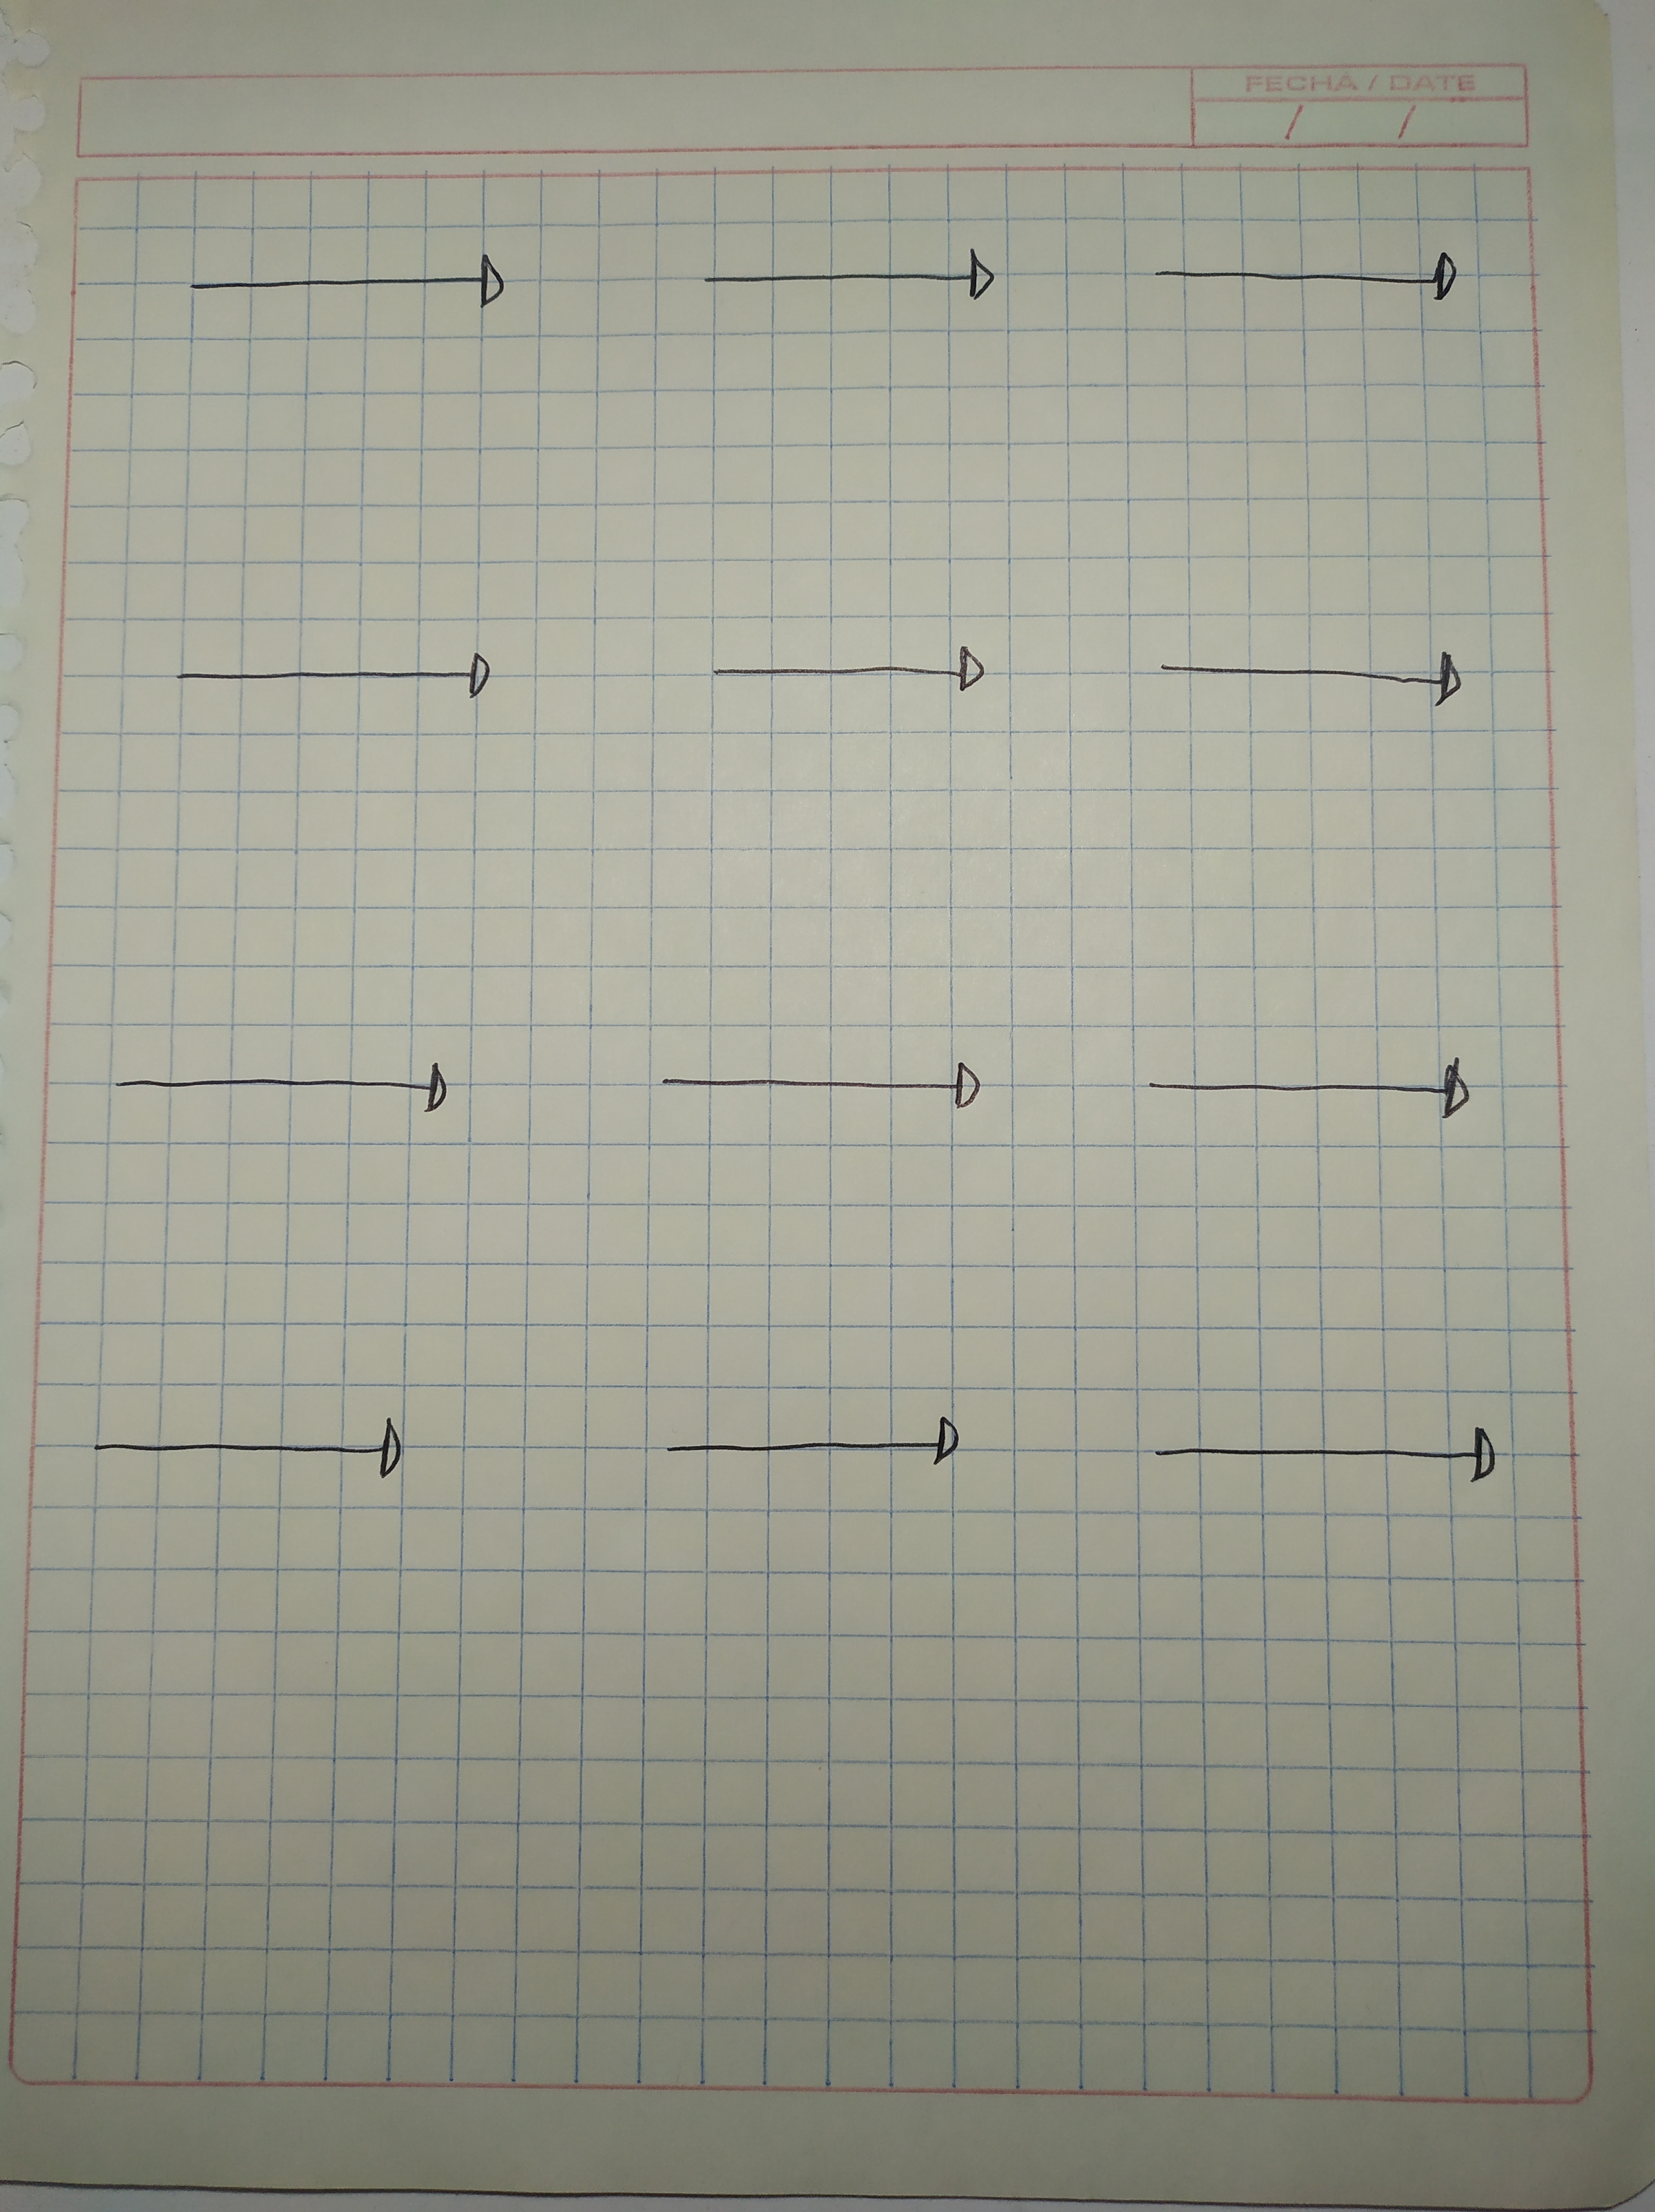arrow_line_right: (664, 221, 1066, 353), (629, 1373, 1005, 1501), (1114, 1397, 1533, 1500), (1128, 1037, 1490, 1150), (92, 1041, 466, 1147), (165, 240, 542, 342), (61, 1397, 431, 1501), (635, 1051, 1000, 1152), (1130, 629, 1490, 728), (1128, 229, 1488, 325), (141, 643, 542, 723), (676, 638, 1022, 723)
